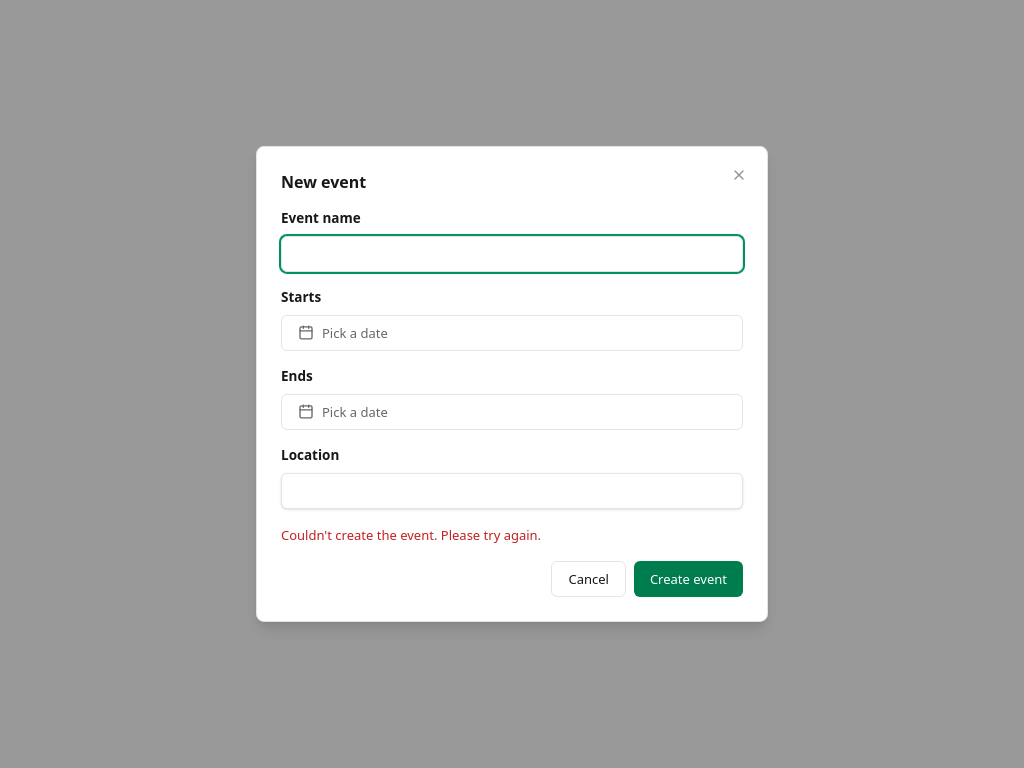
CreateEventDialog › gives Starts and Ends distinct clear-button accessible names
Click the button named "Starts": (355, 333) [281, 315, 743, 351]
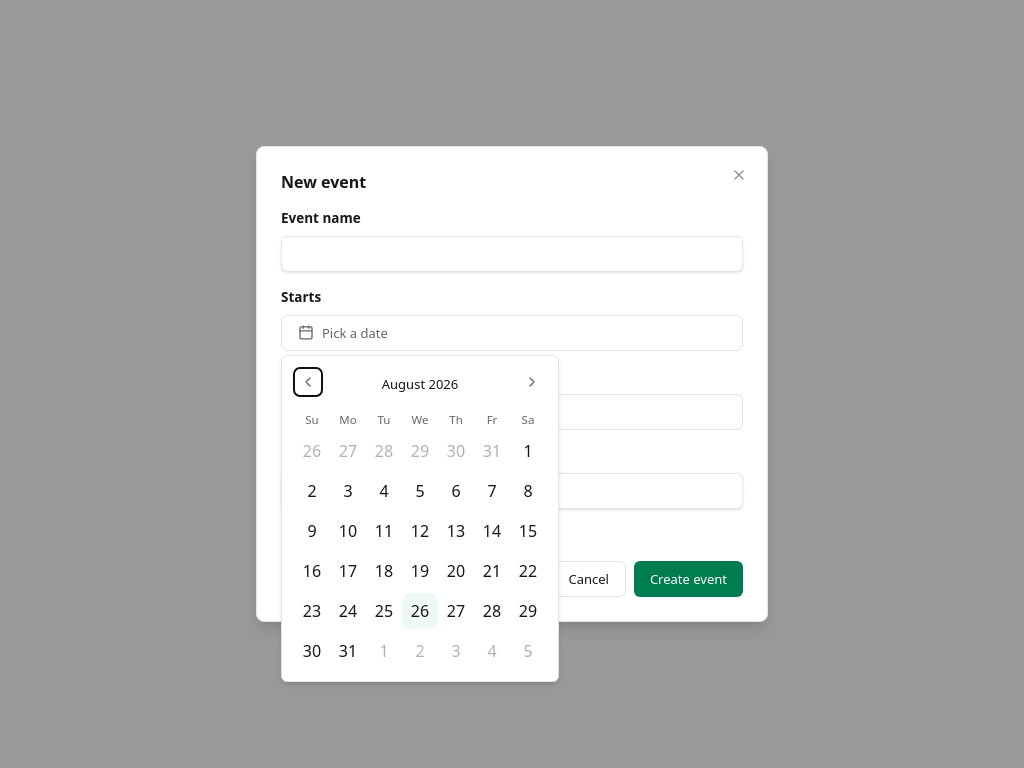
Click the 1st button "5": (420, 491) [402, 473, 438, 509]
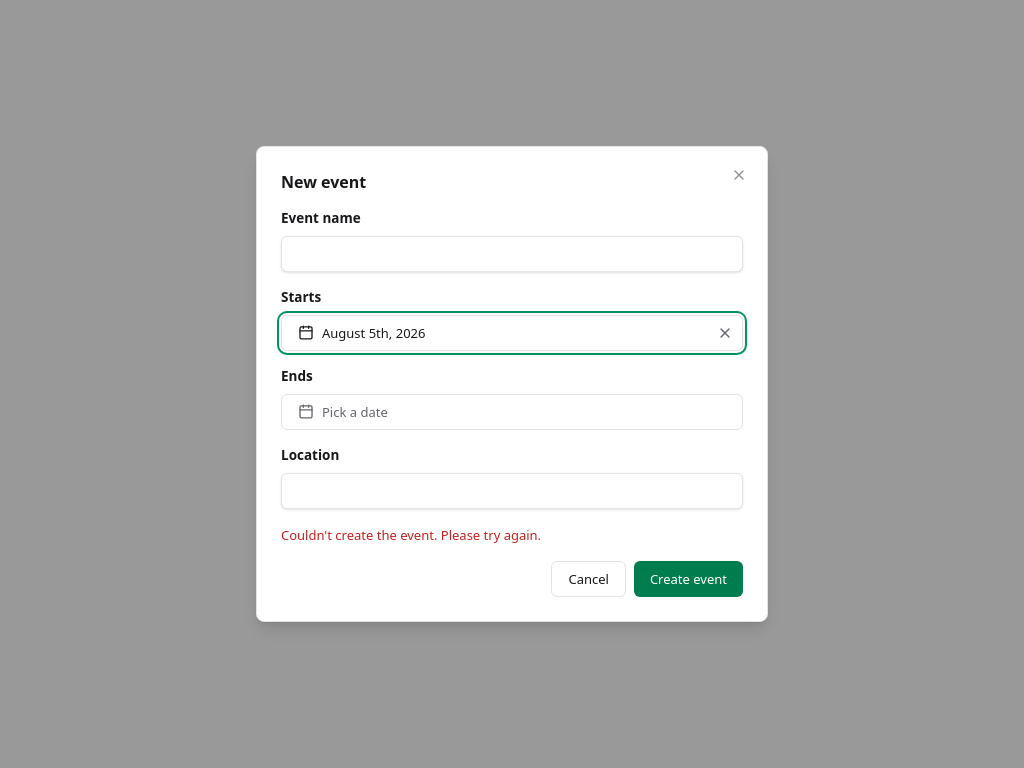
Click the button named "Ends": (355, 412) [281, 394, 743, 430]
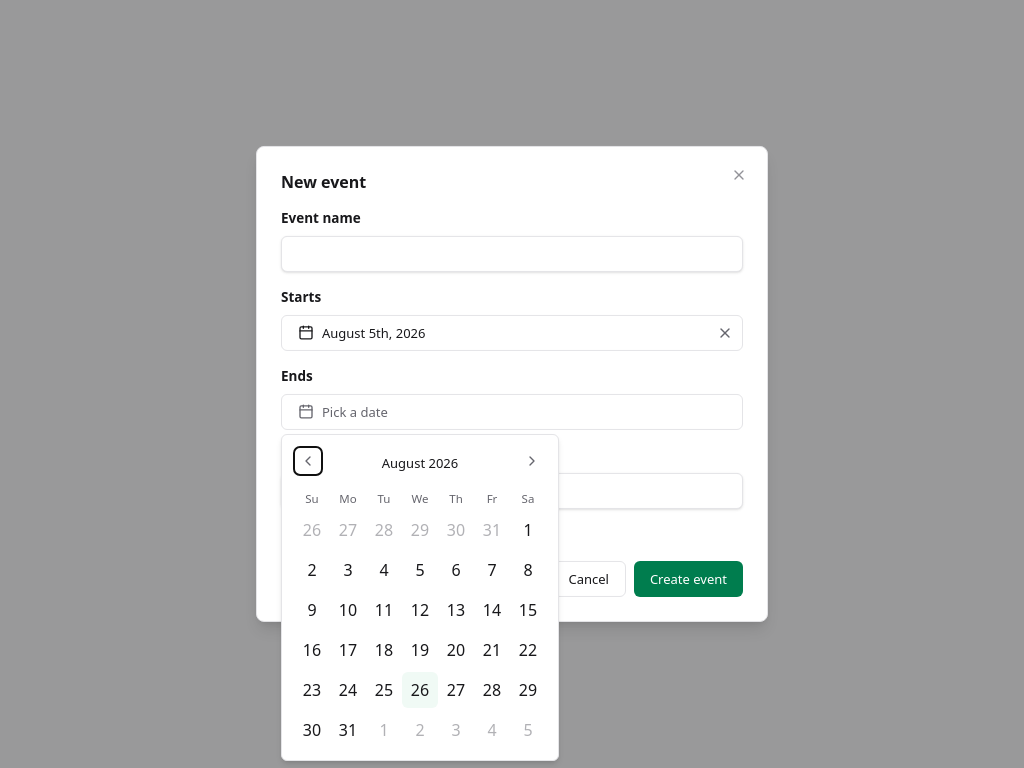
Click the button "10": (348, 610) [330, 592, 366, 628]
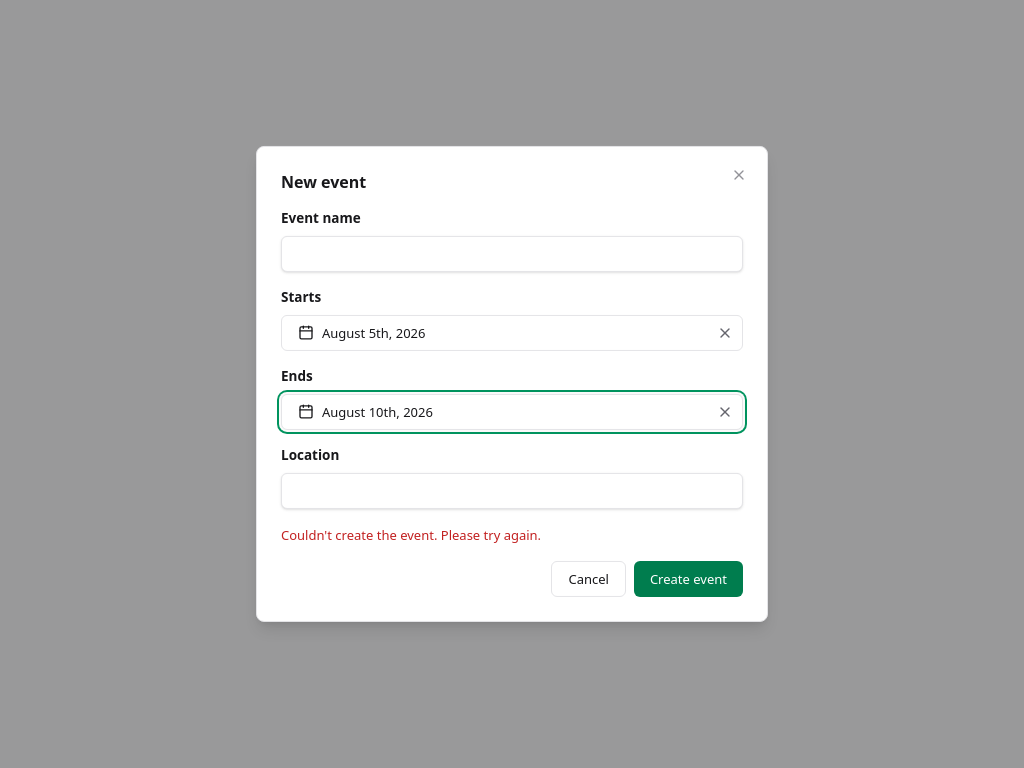
Expected: the button named "Clear start date" is shown, [713, 321, 737, 345]
Expected: the button named "Clear end date" is shown, [713, 400, 737, 424]
